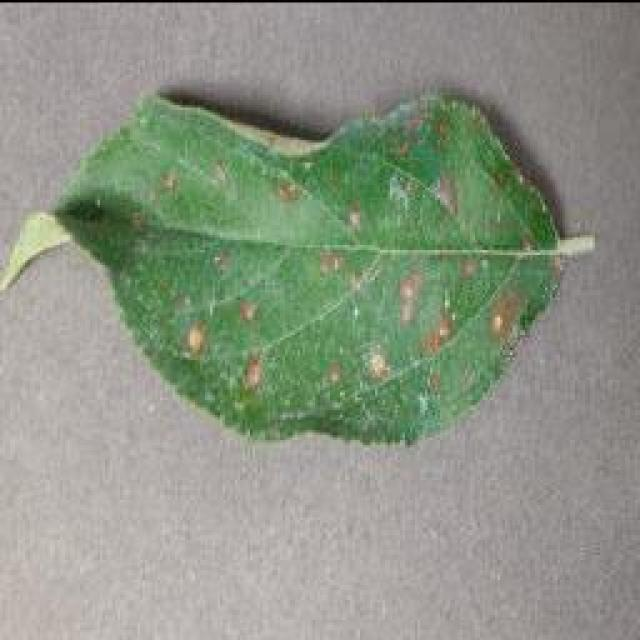apple rust disease: (0, 85, 590, 447)
